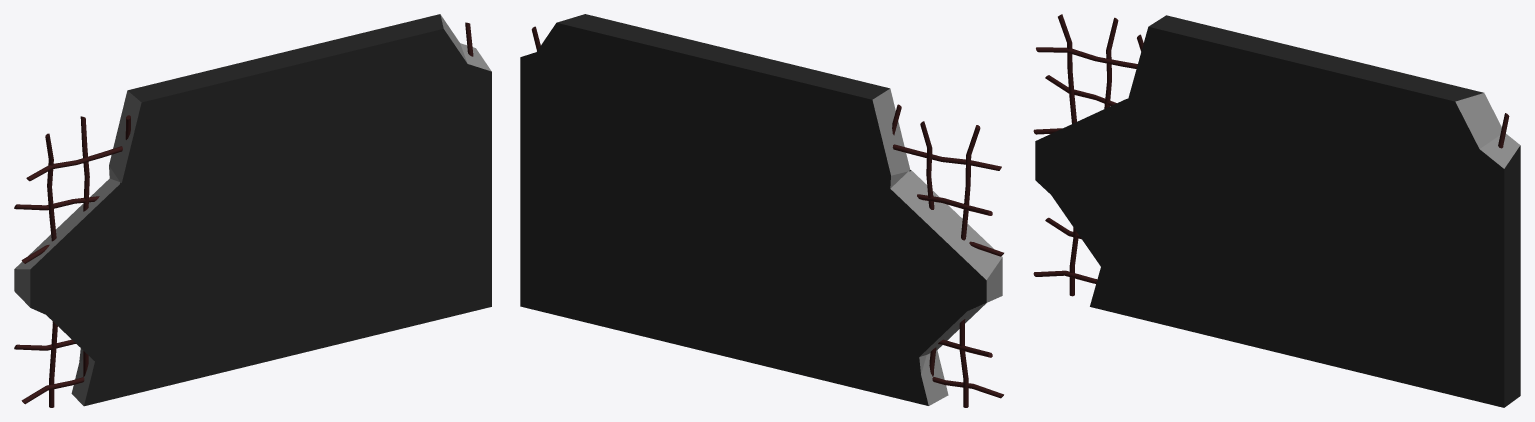
File: P_MurCasséTest1.FBX
3 views of the same model, side by side, from view 1: azimuth 30°, elevation 25°; view 2: azimuth 150°, elevation 25°; view 3: azimuth 330°, elevation 25° (orthographic).
Visible parts, largest first — view 1: Box010_Part_16; view 2: Box010_Part_16; view 3: Box010_Part_16.
Boxes of the visible parts, x1,y1,x2,y2 form: Box010_Part_16: [14, 14, 491, 407]; Box010_Part_16: [520, 14, 1003, 407]; Box010_Part_16: [1033, 14, 1520, 407].
Size of the model in its own units: 505 by 30 by 300.
